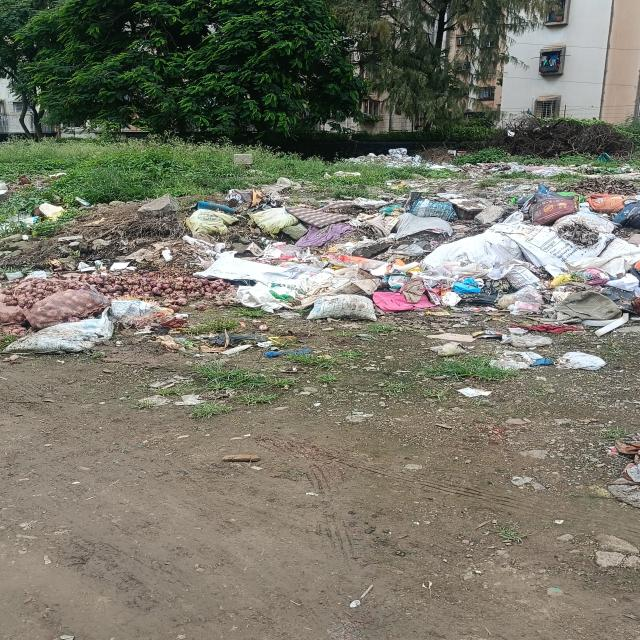garbage: (0, 193, 639, 370), (347, 151, 640, 194)
